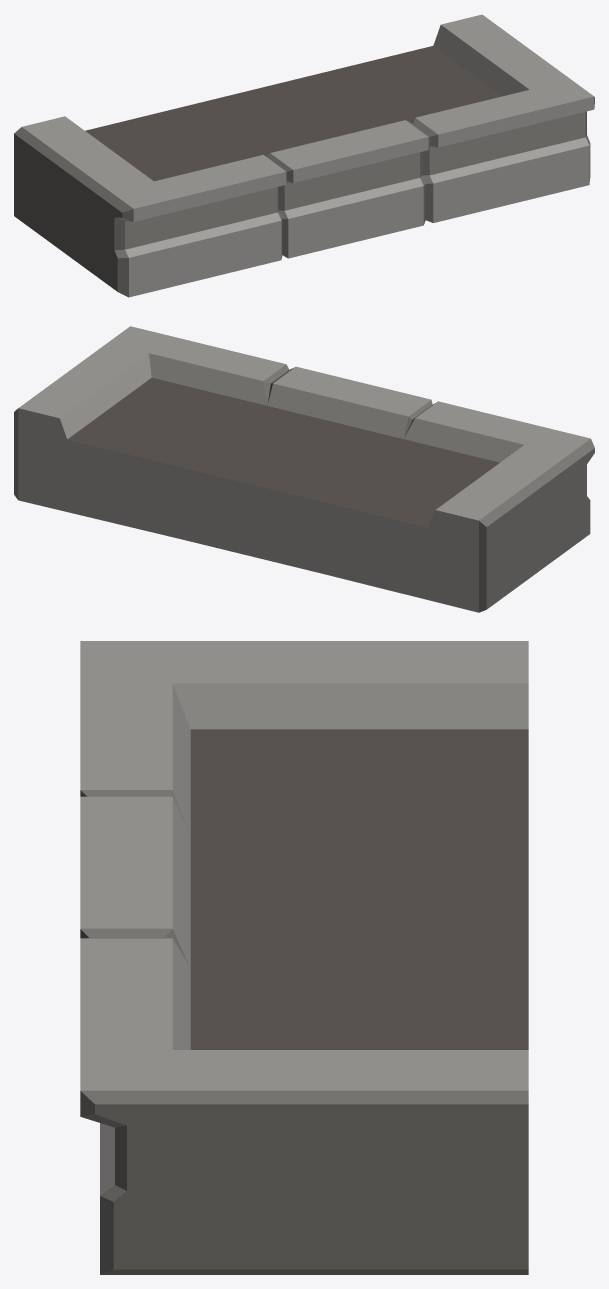
File: ancient_SM_Bld_Floor_Trim_02.gltf
3 renders of one model, top to bottom at view 1: azimuth 30°, elevation 25°; view 2: azimuth 150°, elevation 25°; view 3: azimuth 270°, elevation 25°, orthographic. The views are drawn at different scales.
Visible parts, largest first — view 1: SM_Bld_Floor_Trim_02; view 2: SM_Bld_Floor_Trim_02; view 3: SM_Bld_Floor_Trim_02.
Boxes of the visible parts, box(x1,y1,x2,y2) form: SM_Bld_Floor_Trim_02: box(14, 14, 594, 297); SM_Bld_Floor_Trim_02: box(14, 326, 594, 612); SM_Bld_Floor_Trim_02: box(80, 641, 528, 1274).
Size of the model in its own units: 2.5 by 0.466 by 1.03.
1 material, 1 textured.
